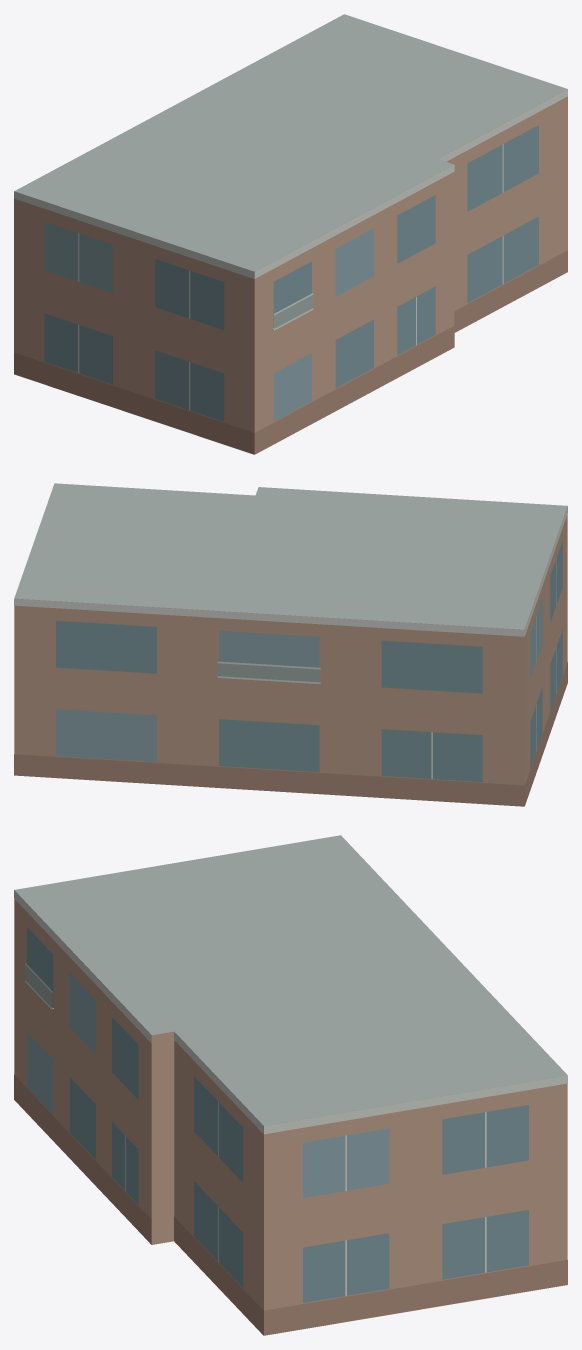
Rendered from survey-upis-32772874.glb.
The picture shows the model from 3 angles, top to bottom: view 1: azimuth 30°, elevation 25°; view 2: azimuth 150°, elevation 25°; view 3: azimuth 270°, elevation 25°; orthographic projection. The views are drawn at different scales.
Parts seen in each view (by area): view 1: survey-upis-32772874.tmp; view 2: survey-upis-32772874.tmp; view 3: survey-upis-32772874.tmp.
Boxes of the visible parts, x1,y1,x2,y2 form: survey-upis-32772874.tmp: (14, 14, 567, 454); survey-upis-32772874.tmp: (14, 483, 567, 806); survey-upis-32772874.tmp: (14, 835, 567, 1335).
Bounding box in the file's own units: 18.15 × 6.1 × 14.6.
